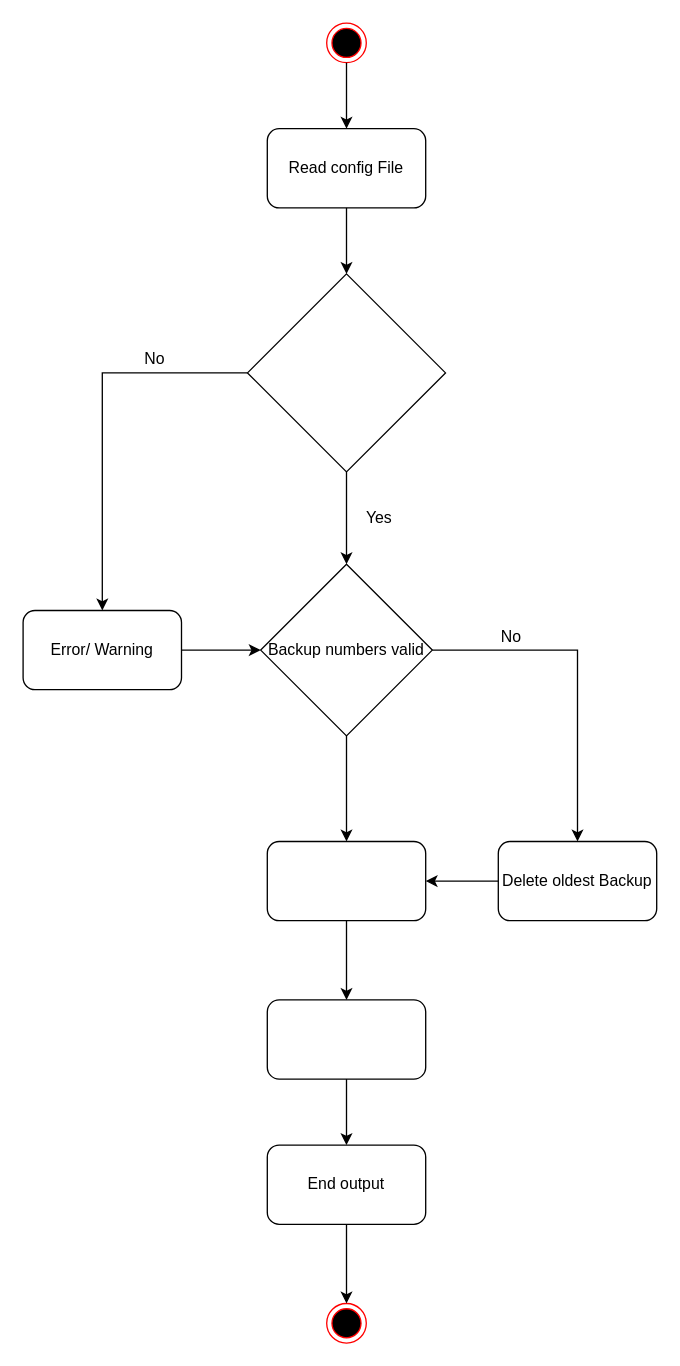
Some shapes in this 680 by 1366 pixel diagram are drawn without their labels. The shapes that lost their labels are listed below. From the top down, each one's box as (x1, y1, x2, y2) in pixels, then its label:
(246, 273, 446, 472): Check if all groups are valid in conig
(266, 840, 426, 921): Find all folders
(266, 999, 426, 1079): Folder to <tar> and Config directory safe <ink> prefix
